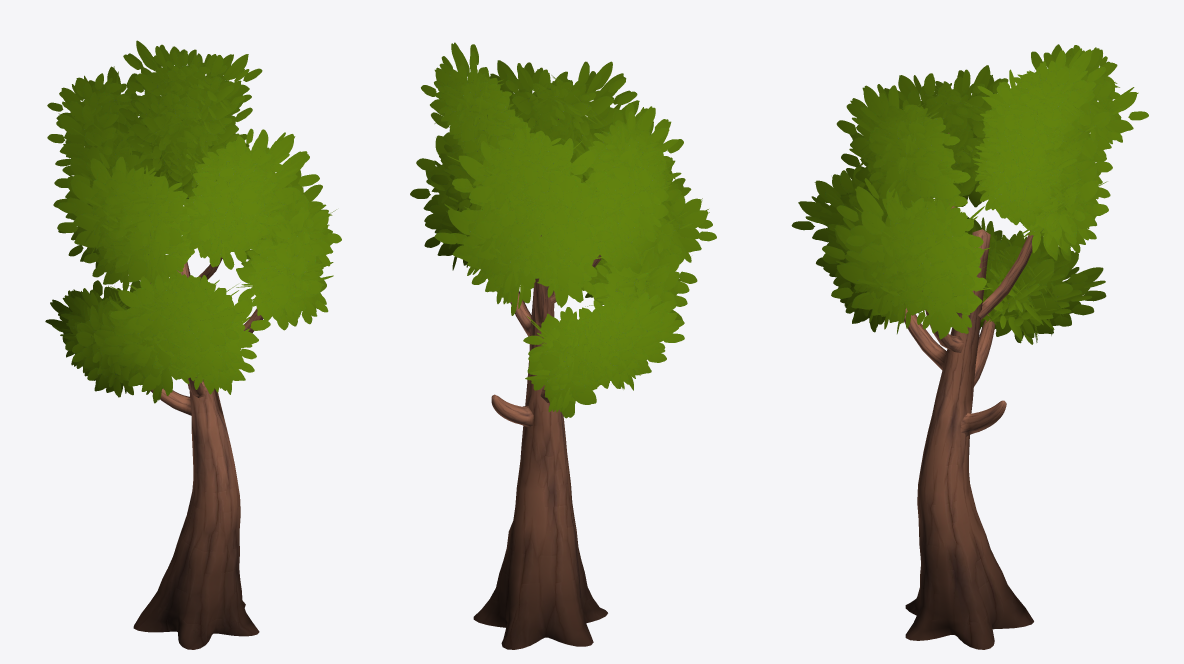
File: commontree_5.glb
3 views of the same model, side by side, from view 1: azimuth 30°, elevation 25°; view 2: azimuth 150°, elevation 25°; view 3: azimuth 270°, elevation 25° (orthographic). The views are drawn at different scales.
Parts seen in each view (by area): view 1: CommonTree_5; view 2: CommonTree_5; view 3: CommonTree_5.
Boxes of the visible parts, left/top/right/bottom form: CommonTree_5: left=45, top=40, right=341, bottom=649; CommonTree_5: left=410, top=42, right=716, bottom=649; CommonTree_5: left=791, top=44, right=1148, bottom=649.
Bounding box in the file's own units: 3.67 × 7.01 × 4.22.
Materials: 2 (2 with a texture image).
